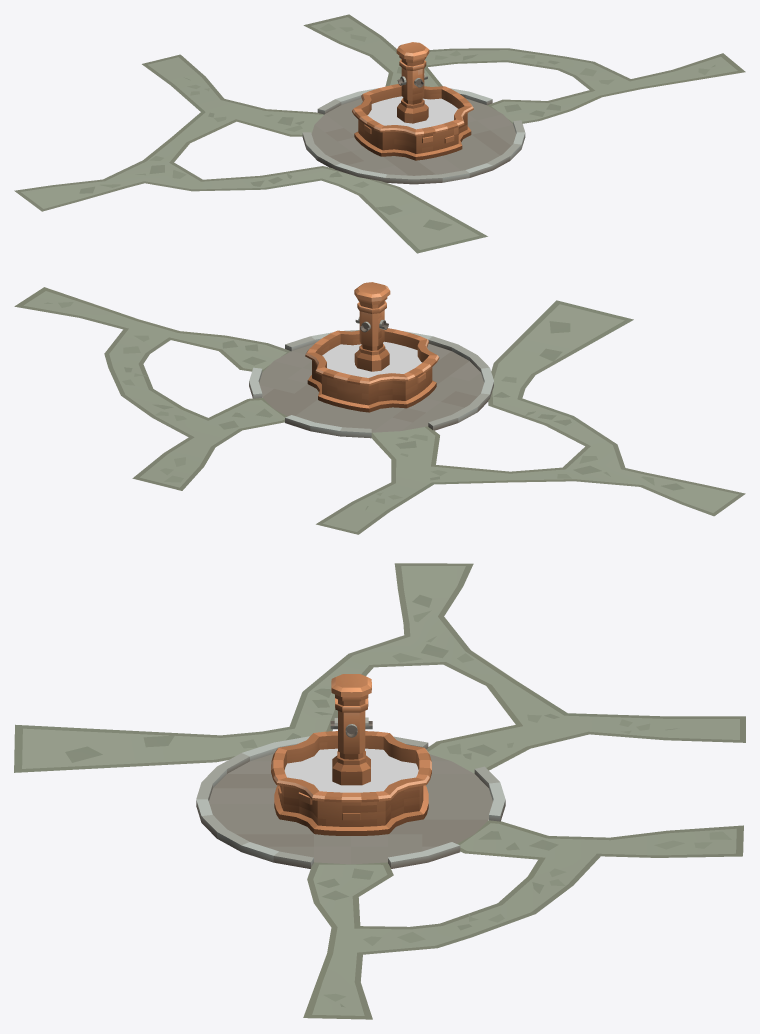
Rendered from SM_ParkRoad.fbx.
3 renders of one model, top to bottom at view 1: azimuth 30°, elevation 25°; view 2: azimuth 150°, elevation 25°; view 3: azimuth 270°, elevation 25°, orthographic. The views are drawn at different scales.
Parts seen in each view (by area): view 1: SM_ParkRoad, SM_FountainWater; view 2: SM_ParkRoad, SM_FountainWater; view 3: SM_ParkRoad, SM_FountainWater.
Boxes of the visible parts, bbox=[...] form: SM_ParkRoad: bbox=[14, 14, 745, 253]; SM_FountainWater: bbox=[367, 96, 457, 129]; SM_ParkRoad: bbox=[14, 282, 745, 534]; SM_FountainWater: bbox=[322, 341, 422, 377]; SM_ParkRoad: bbox=[14, 563, 745, 1019]; SM_FountainWater: bbox=[284, 748, 418, 792].
Size of the model in its own units: 68.88 by 8.77 by 46.69.
